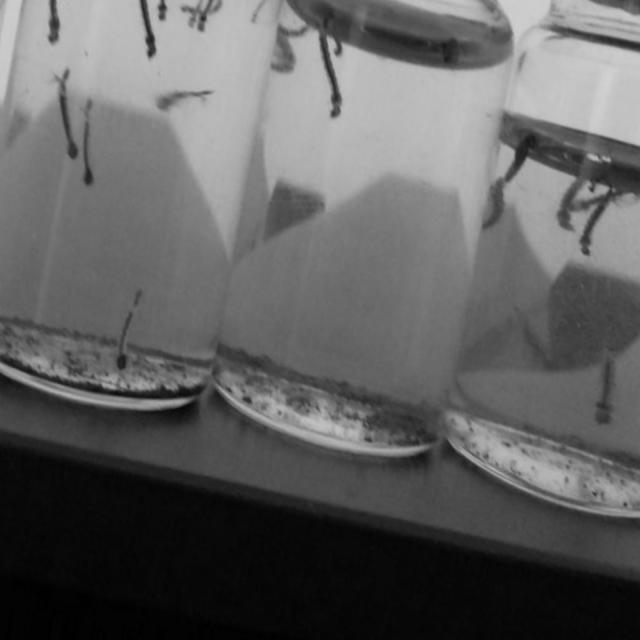larvas: (575, 175, 619, 260), (551, 155, 594, 238), (370, 27, 471, 58), (318, 27, 348, 123), (116, 288, 144, 367), (573, 183, 635, 217), (60, 74, 79, 158), (595, 357, 619, 423), (506, 133, 540, 177), (158, 90, 214, 113), (82, 102, 96, 185), (488, 175, 508, 230), (138, 3, 158, 57), (272, 37, 302, 73), (326, 16, 346, 52), (47, 0, 61, 48), (196, 0, 214, 35), (187, 0, 206, 31), (279, 20, 310, 37), (250, 0, 266, 28), (154, 0, 170, 23), (182, 3, 194, 13)
